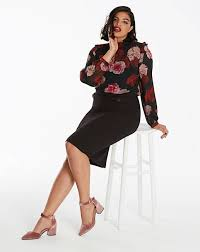F_tailored skirt: (65, 85, 150, 174)
